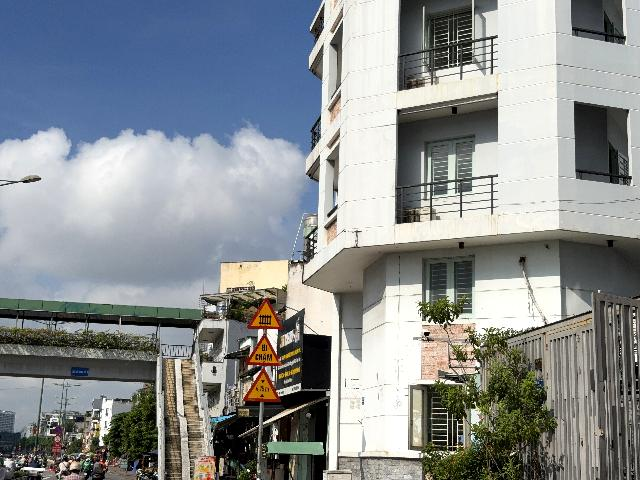chieu-cao-tinh-khong-thuc-te: (243, 368, 281, 402)
di-cham: (245, 333, 282, 367)
noi-giao-nhau-voi-duong-sat-co-rao-chan: (247, 297, 283, 330)
